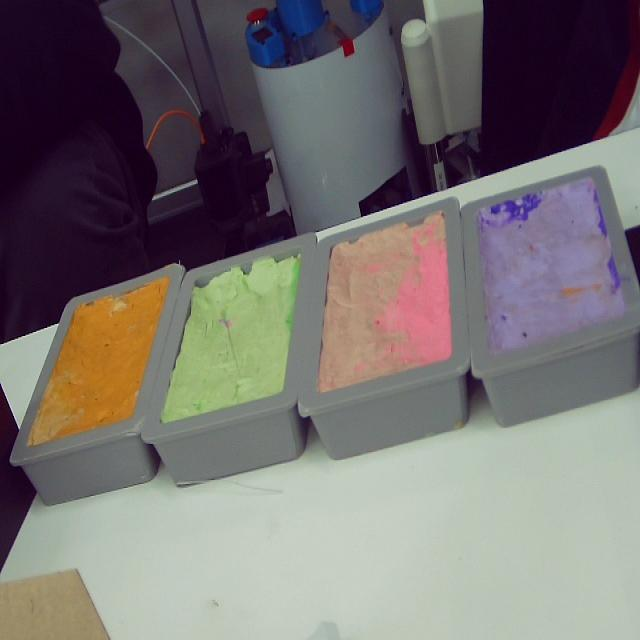block: (459, 163, 640, 430), (296, 196, 473, 460), (134, 235, 318, 484), (5, 264, 183, 504)
